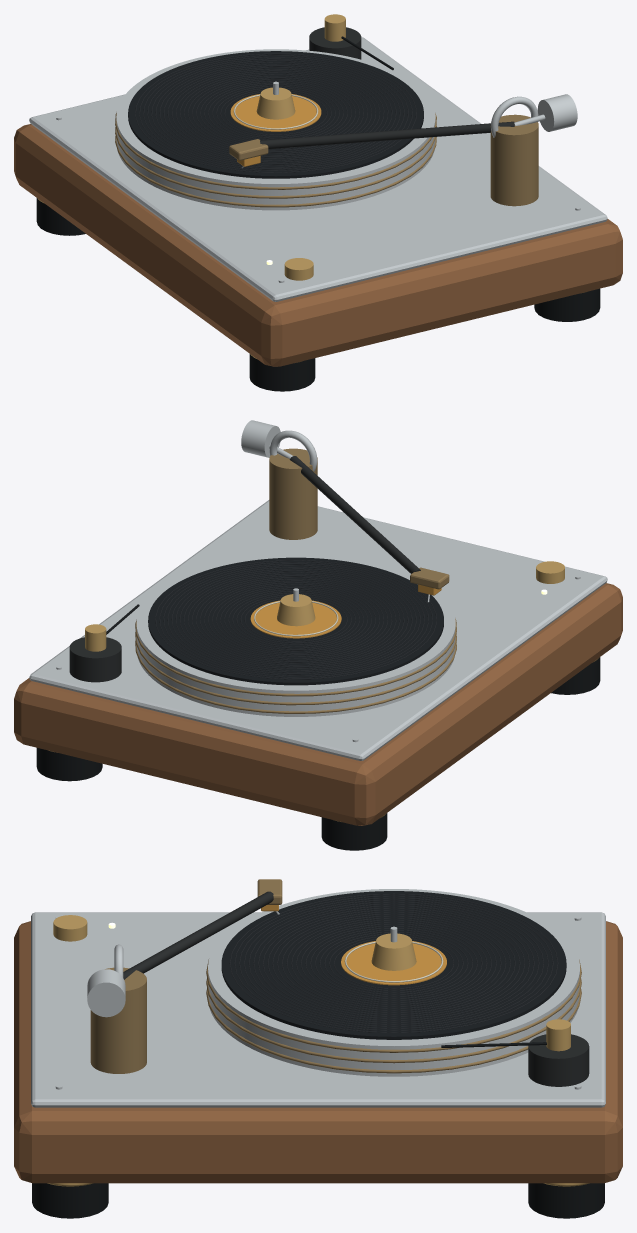
Rendered from turntable-reference.glb.
3 renders of one model, top to bottom at view 1: azimuth 30°, elevation 25°; view 2: azimuth 150°, elevation 25°; view 3: azimuth 270°, elevation 25°, orthographic. The views are drawn at different scales.
Parts seen in each view (by area): view 1: part::turntable-reference/deep-walnut-plinth-001, part::turntable-reference/machined-top-plate-001, part::turntable-reference/vinyl-record-001, part::turntable-reference/bearing-platter-001, part::turntable-reference/arm-bearing-tower-001, part::turntable-reference/carbon-tonearm-001, part::turntable-reference/printed-center-label-001, part::turntable-reference/adjustable-isolation-foot-004, part::turntable-reference/adjustable-isolation-foot-003, part::turntable-reference/balanced-counterweight-001, part::turntable-reference/platter-machined-edge-001, part::turntable-reference/platter-machined-edge-003 (+18 smaller); view 2: part::turntable-reference/deep-walnut-plinth-001, part::turntable-reference/machined-top-plate-001, part::turntable-reference/vinyl-record-001, part::turntable-reference/bearing-platter-001, part::turntable-reference/arm-bearing-tower-001, part::turntable-reference/motor-pod-001, part::turntable-reference/printed-center-label-001, part::turntable-reference/adjustable-isolation-foot-002, part::turntable-reference/carbon-tonearm-001, part::turntable-reference/adjustable-isolation-foot-001, part::turntable-reference/platter-machined-edge-003, part::turntable-reference/platter-machined-edge-002 (+17 smaller); view 3: part::turntable-reference/deep-walnut-plinth-001, part::turntable-reference/machined-top-plate-001, part::turntable-reference/vinyl-record-001, part::turntable-reference/bearing-platter-001, part::turntable-reference/arm-bearing-tower-001, part::turntable-reference/motor-pod-001, part::turntable-reference/printed-center-label-001, part::turntable-reference/adjustable-isolation-foot-001, part::turntable-reference/adjustable-isolation-foot-003, part::turntable-reference/carbon-tonearm-001, part::turntable-reference/balanced-counterweight-001, part::turntable-reference/platter-machined-edge-003 (+24 smaller).
Boxes of the visible parts, x1,y1,x2,y2 form: part::turntable-reference/deep-walnut-plinth-001: (14,124,622,366); part::turntable-reference/machined-top-plate-001: (29,37,607,301); part::turntable-reference/vinyl-record-001: (128,51,423,178); part::turntable-reference/bearing-platter-001: (116,49,435,210); part::turntable-reference/arm-bearing-tower-001: (490,114,538,206); part::turntable-reference/carbon-tonearm-001: (260,121,514,149); part::turntable-reference/printed-center-label-001: (230,94,321,131); part::turntable-reference/adjustable-isolation-foot-004: (249,354,315,391); part::turntable-reference/adjustable-isolation-foot-003: (534,288,600,321); part::turntable-reference/balanced-counterweight-001: (537,94,577,131); part::turntable-reference/platter-machined-edge-001: (115,136,436,207); part::turntable-reference/platter-machined-edge-003: (115,112,436,189); part::turntable-reference/deep-walnut-plinth-001: (14,583,622,825); part::turntable-reference/machined-top-plate-001: (29,500,607,760); part::turntable-reference/vinyl-record-001: (148,557,443,685); part::turntable-reference/bearing-platter-001: (136,556,455,716); part::turntable-reference/arm-bearing-tower-001: (269,448,317,539); part::turntable-reference/motor-pod-001: (69,637,121,682); part::turntable-reference/printed-center-label-001: (250,600,341,638); part::turntable-reference/adjustable-isolation-foot-002: (321,813,387,850); part::turntable-reference/carbon-tonearm-001: (289,456,420,573); part::turntable-reference/adjustable-isolation-foot-001: (36,748,102,781); part::turntable-reference/platter-machined-edge-003: (135,618,456,696); part::turntable-reference/platter-machined-edge-002: (135,632,456,705); part::turntable-reference/deep-walnut-plinth-001: (14,921,622,1183); part::turntable-reference/machined-top-plate-001: (31,912,605,1107); part::turntable-reference/vinyl-record-001: (221,891,566,1039); part::turntable-reference/bearing-platter-001: (208,889,579,1076); part::turntable-reference/arm-bearing-tower-001: (90,967,146,1073); part::turntable-reference/motor-pod-001: (528,1034,589,1086); part::turntable-reference/printed-center-label-001: (341,941,446,985); part::turntable-reference/adjustable-isolation-foot-001: (528,1183,604,1218); part::turntable-reference/adjustable-isolation-foot-003: (32,1183,108,1218); part::turntable-reference/carbon-tonearm-001: (123,891,273,979); part::turntable-reference/balanced-counterweight-001: (87,969,125,1017); part::turntable-reference/platter-machined-edge-003: (206,959,581,1052).
Bounding box in the file's own units: 0.43 × 0.232 × 0.54.
